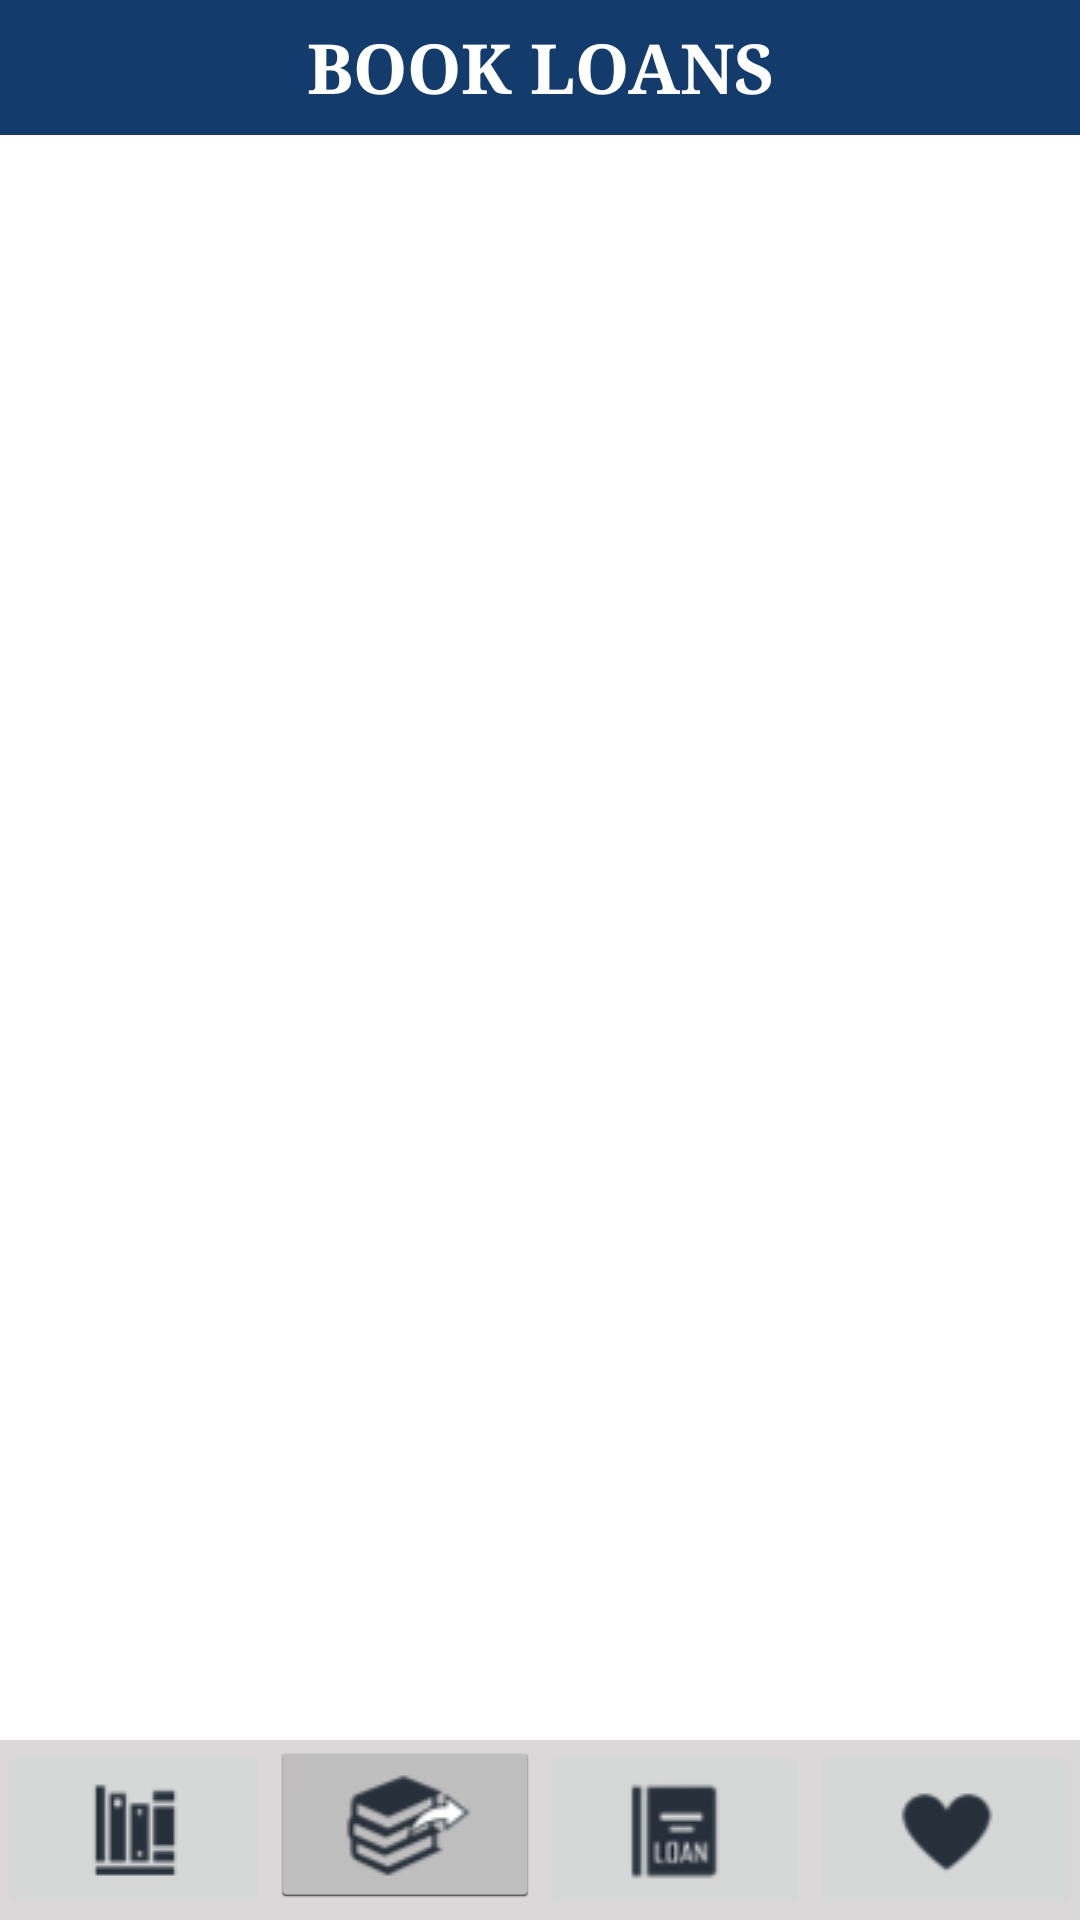

Screen size 1080x1920. Icon name, then its box in pixels as (x1, y1, x2, y2):
favorite: (901, 1793, 993, 1871)
library: (94, 1784, 177, 1876)
return: (282, 1754, 528, 1897)
